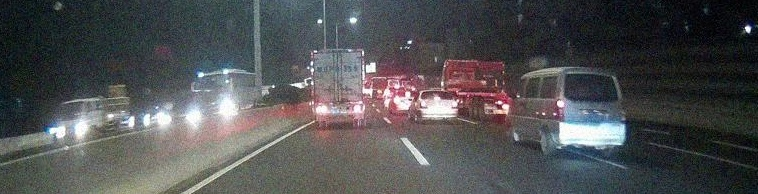L_light: (556, 99, 565, 120), (315, 106, 328, 113), (420, 101, 427, 108)
R_light: (621, 102, 628, 121), (353, 105, 364, 113), (452, 101, 458, 108)
T_light: (583, 73, 598, 77), (434, 96, 441, 100), (332, 50, 341, 52)
night-brake: (420, 90, 458, 124)
night-left: (553, 67, 629, 154)
night-no: (309, 49, 366, 129)
